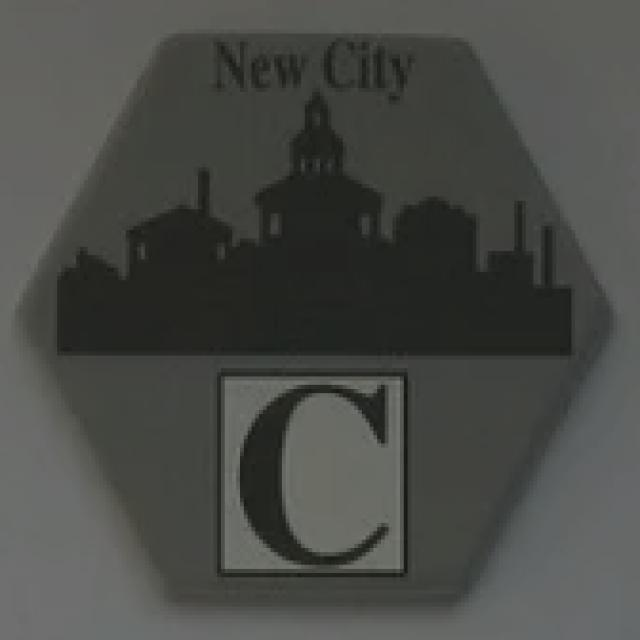18_0: (18, 31, 614, 607)
